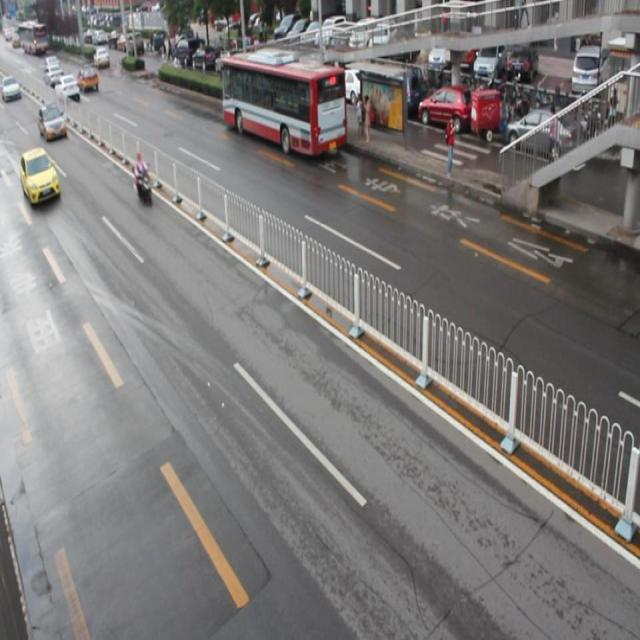car: (20, 147, 61, 209)
van: (221, 54, 345, 156)
